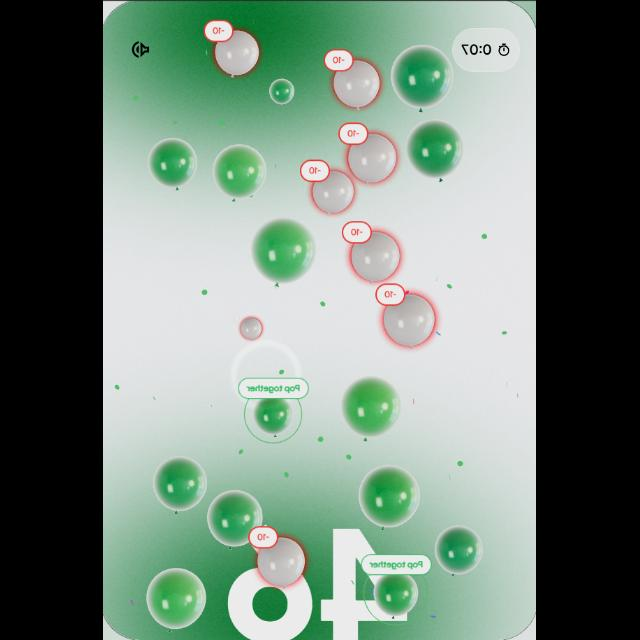hazard: (374, 282, 442, 356), (202, 13, 268, 89), (338, 220, 408, 286), (336, 121, 402, 189), (249, 528, 311, 594), (326, 44, 386, 112), (301, 160, 365, 218), (233, 313, 265, 343)
safe: (347, 462, 427, 534), (248, 214, 320, 292), (390, 38, 460, 116), (339, 372, 407, 444), (141, 566, 209, 634), (206, 141, 272, 205), (205, 487, 269, 553), (405, 120, 471, 182), (152, 450, 210, 518), (142, 135, 204, 193), (432, 524, 483, 580), (271, 78, 297, 110)
safe-pair: (235, 370, 309, 448), (362, 548, 432, 628)
